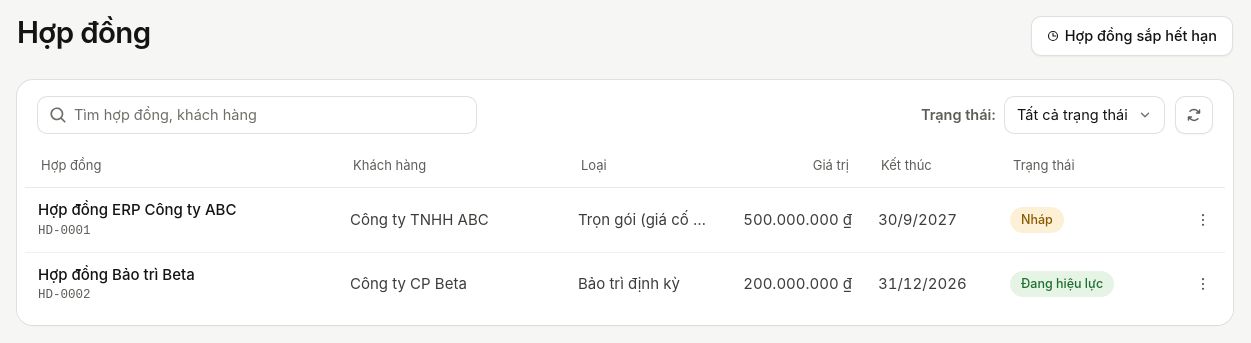
Test: ContractListPage (NCL-04-CN-002 — lối vào cho Kế toán) › lọc theo trạng thái ACTIVE chỉ còn hợp đồng đang hiệu lực
This screenshot has width=1251, height=343.
expect the table with test id "contract-table" is shown: met, box [25, 144, 1225, 317]
Select "Đang hiệu lực" in the dropdown labelled "Trạng thái:" at (1084, 115), box [1004, 96, 1165, 134]
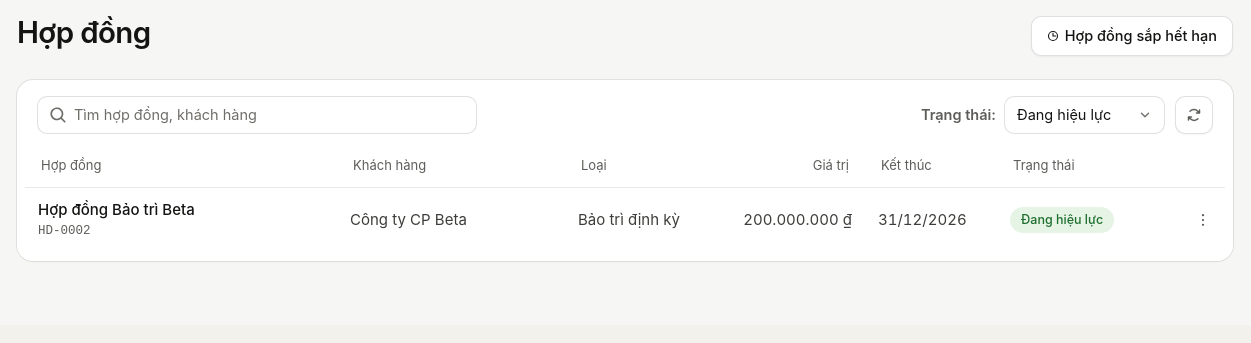
expect the text "HD-0002" is shown: met, box [38, 224, 90, 238]
expect the text "HD-0001" is gone: met
